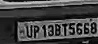1: (41, 23, 49, 39)
3: (47, 22, 54, 37)
5: (67, 21, 76, 38)
6: (83, 19, 90, 38), (76, 21, 83, 39)
8: (90, 21, 97, 37)
B: (54, 23, 61, 38)
P: (32, 22, 40, 40)
T: (61, 22, 68, 37)
U: (25, 24, 33, 38)
